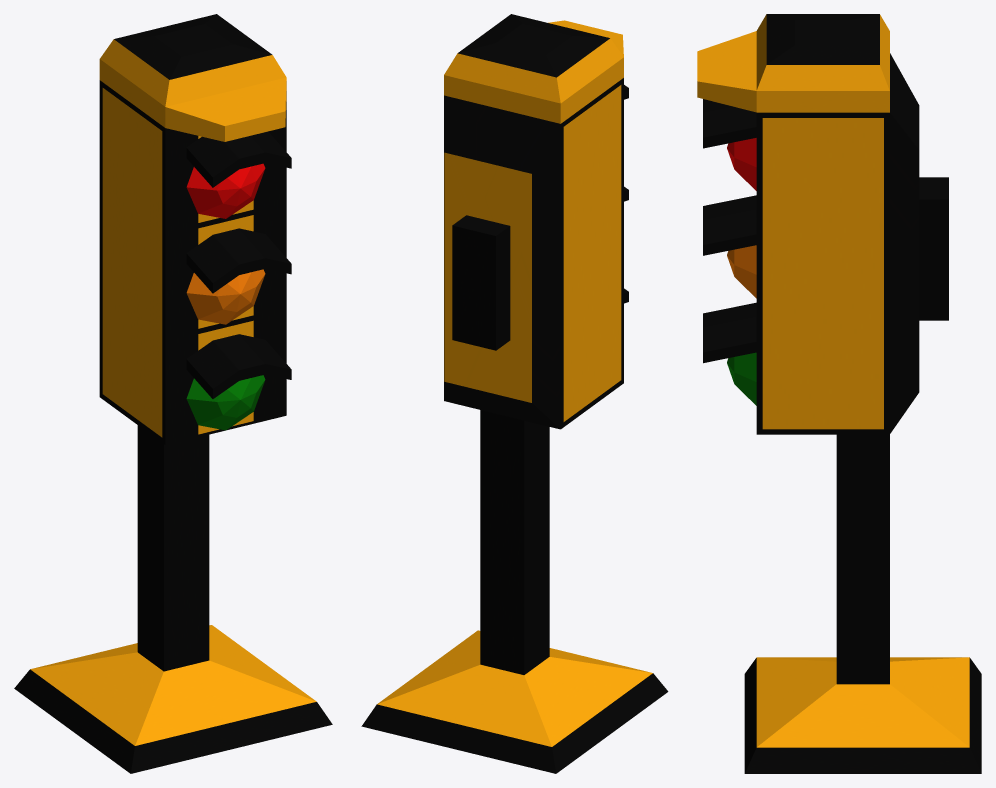
The model's file is TrafficLight.obj.
3 renders of one model, left to right at view 1: azimuth 30°, elevation 25°; view 2: azimuth 150°, elevation 25°; view 3: azimuth 270°, elevation 25°, orthographic. The views are drawn at different scales.
Visible parts, largest first — view 1: Base, LightCover, RedLight, GreenLight, YellowLight; view 2: Base; view 3: Base, LightCover, RedLight, GreenLight, YellowLight.
Part boxes in pixels (x1,y1,x2,y2): Base: (14, 14, 332, 773); LightCover: (186, 131, 291, 398); RedLight: (186, 163, 265, 218); GreenLight: (186, 375, 265, 430); YellowLight: (186, 269, 265, 324); Base: (361, 14, 668, 773); Base: (697, 14, 981, 773); LightCover: (703, 99, 756, 363); RedLight: (727, 138, 756, 190); GreenLight: (727, 352, 756, 405); YellowLight: (727, 245, 756, 298).
Bounding box in the file's own units: 20 × 64.39 × 24.
5 materials, 5 textured.
